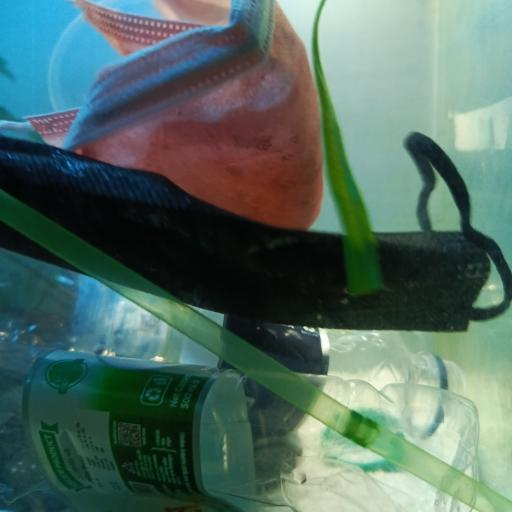bottle_cap: (324, 405, 404, 471)
mask: (0, 129, 510, 334), (23, 0, 323, 228)
plastic_bottle: (0, 265, 461, 442), (0, 342, 478, 512)
plastic_cup: (47, 0, 157, 109)
plastic_straw: (0, 190, 512, 512)
